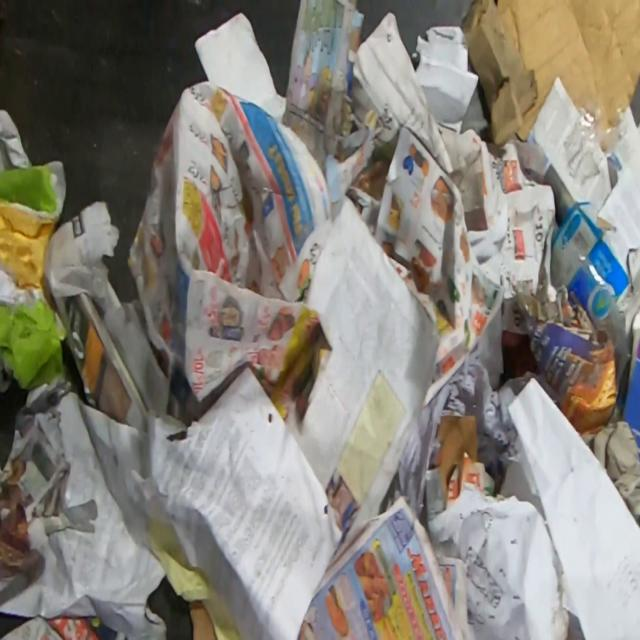cardboard: (460, 0, 640, 147), (0, 163, 68, 391), (515, 289, 616, 436), (550, 201, 630, 336), (430, 413, 477, 499), (619, 307, 640, 465), (188, 598, 216, 639)
rigid_plastic: (561, 82, 629, 189)
soft_plastic: (559, 238, 629, 392)
